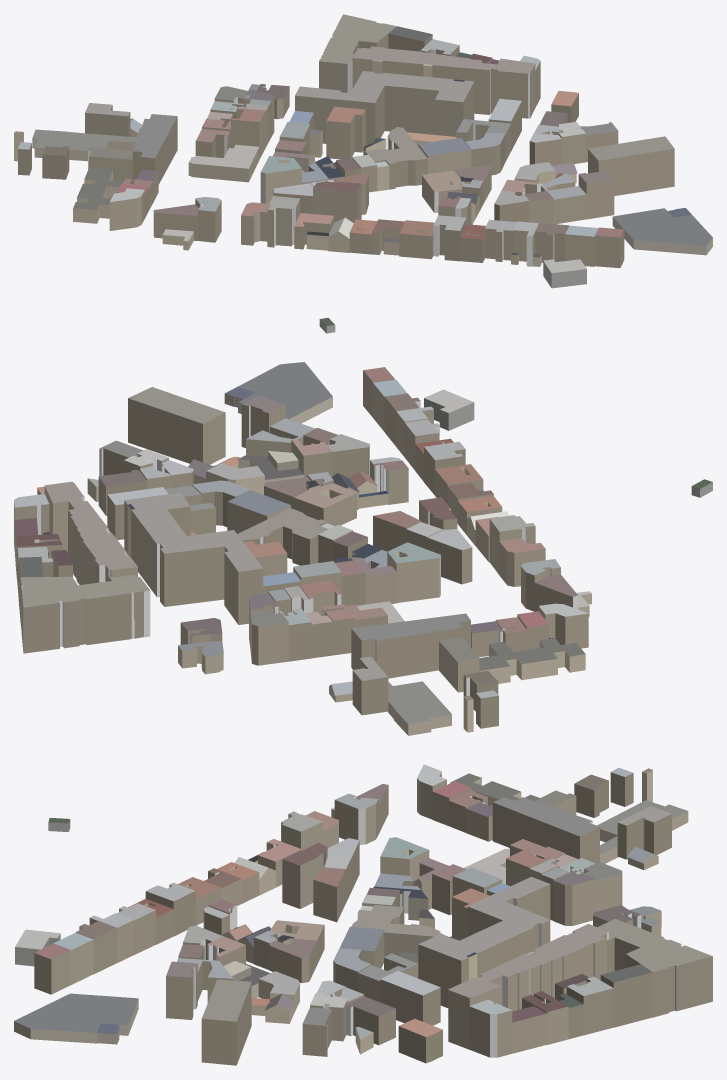
The picture shows the model from 3 angles, top to bottom: view 1: azimuth 30°, elevation 25°; view 2: azimuth 150°, elevation 25°; view 3: azimuth 270°, elevation 25°; orthographic projection. The views are drawn at different scales.
Visible parts, largest first — view 1: tuile; view 2: tuile; view 3: tuile.
Boxes of the visible parts, left/top/right/bottom form: tuile: left=14, top=14, right=712, bottom=333; tuile: left=14, top=362, right=712, bottom=735; tuile: left=14, top=764, right=712, bottom=1065.
Size of the model in its own units: 266 by 25.07 by 282.
